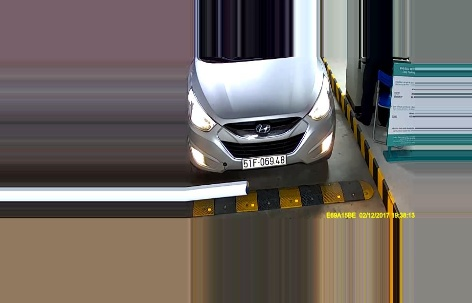plate: (239, 154, 288, 172)
